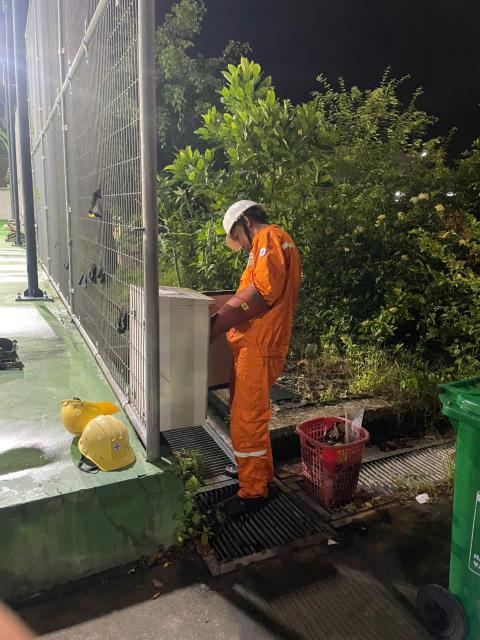gloves: (208, 281, 270, 348)
helmet: (213, 192, 277, 251)
shoes: (210, 490, 278, 517), (211, 453, 275, 477)
